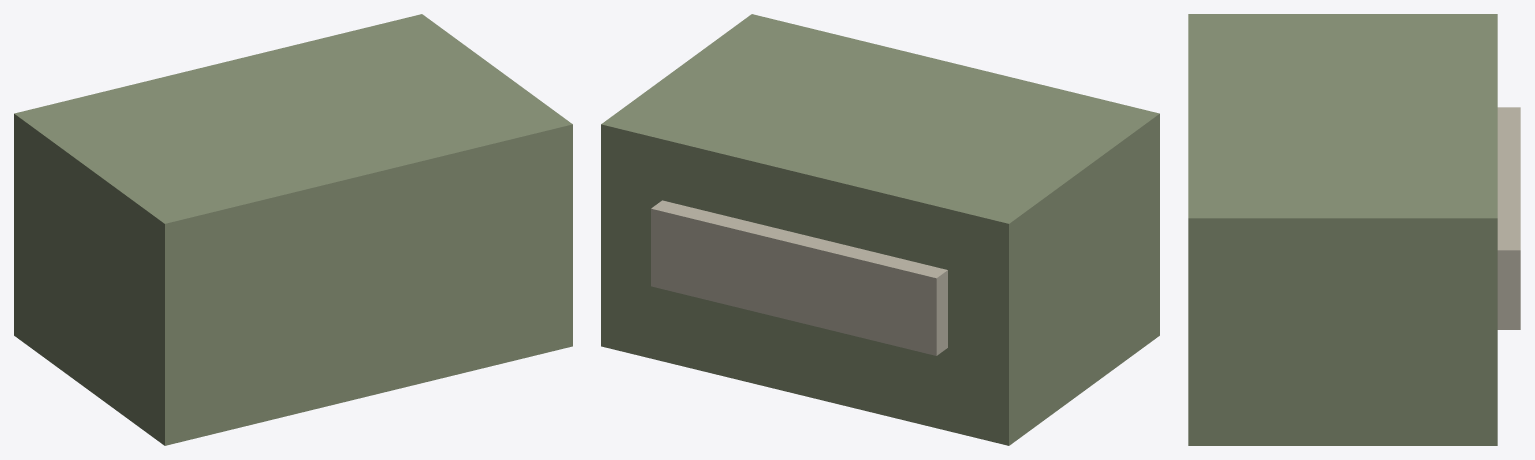
The model's file is ammo_rifle.glb.
The picture shows the model from 3 angles, left to right: view 1: azimuth 30°, elevation 25°; view 2: azimuth 150°, elevation 25°; view 3: azimuth 270°, elevation 25°; orthographic projection. The views are drawn at different scales.
Visible parts, largest first — view 1: body; view 2: body; view 3: body.
Part boxes in pixels (bbox=[...]): body: bbox=[14, 14, 572, 445]; body: bbox=[601, 14, 1159, 445]; body: bbox=[1188, 14, 1520, 445].
Bounding box in the file's own units: 0.25 × 0.13 × 0.172.
